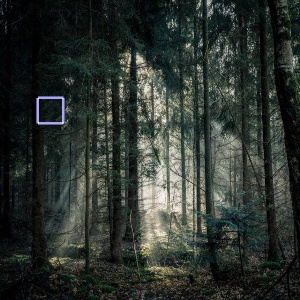square: (32, 93, 67, 127)
